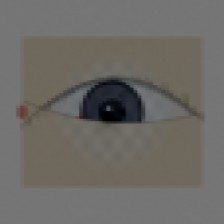hemorrhage_spot: (55, 91, 142, 161)
